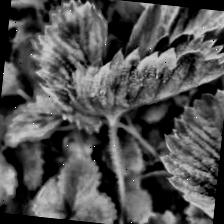Powdery Mildew Leaf: (61, 19, 224, 138)
